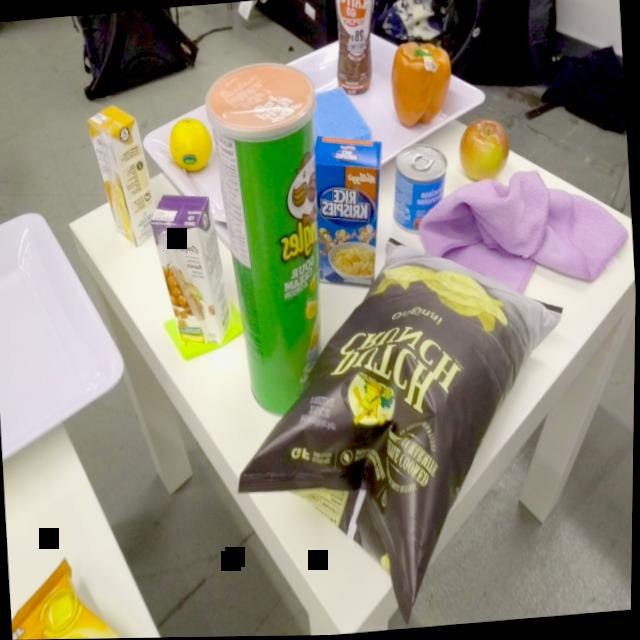apple: (454, 114, 514, 189)
cereal: (306, 128, 394, 293)
grape_juice: (145, 185, 236, 352)
orange: (163, 108, 217, 180)
orange_juice: (81, 97, 163, 254)
paprika: (385, 40, 457, 135)
potato_chips: (221, 216, 589, 637)
pringles: (196, 56, 339, 427)
sausages: (385, 140, 453, 240)
